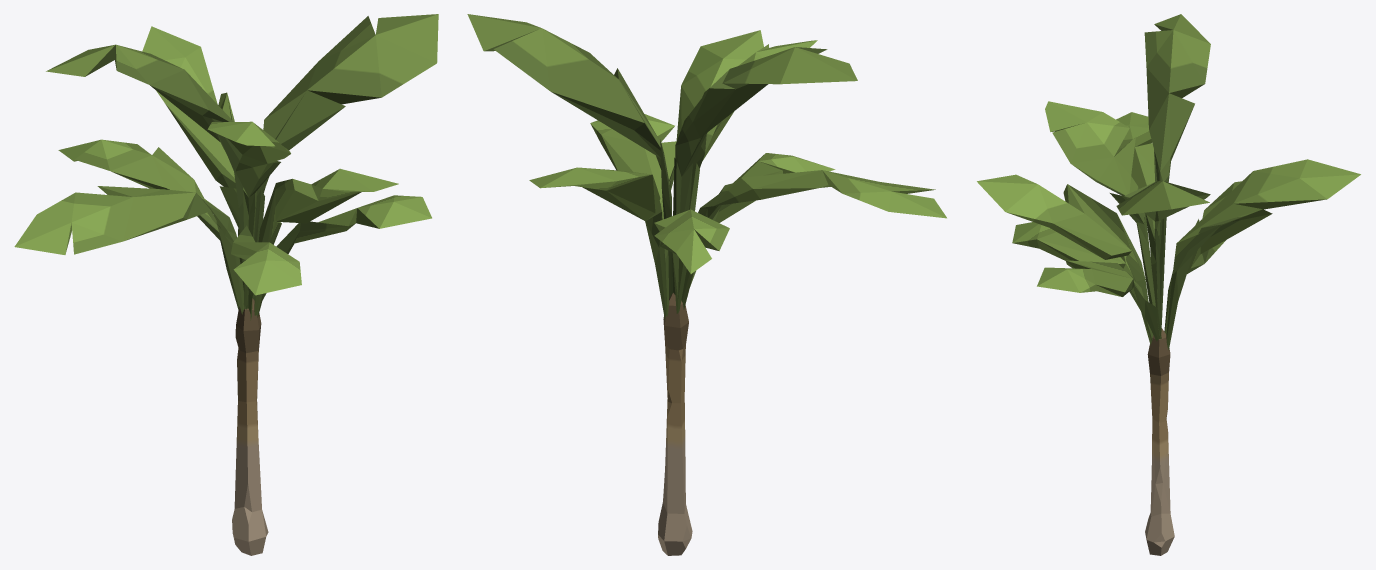
File: SM_Env_Tree_Small_02.fbx
3 renders of one model, left to right at view 1: azimuth 30°, elevation 25°; view 2: azimuth 150°, elevation 25°; view 3: azimuth 270°, elevation 25°, orthographic. The views are drawn at different scales.
Visible parts, largest first — view 1: SM_Env_Tree_Small_02; view 2: SM_Env_Tree_Small_02; view 3: SM_Env_Tree_Small_02.
Part boxes in pixels (<box>): SM_Env_Tree_Small_02: <box>14,14,438,555</box>; SM_Env_Tree_Small_02: <box>467,14,946,555</box>; SM_Env_Tree_Small_02: <box>977,14,1360,555</box>.
Bounding box in the file's own units: 387 × 439 × 328.
